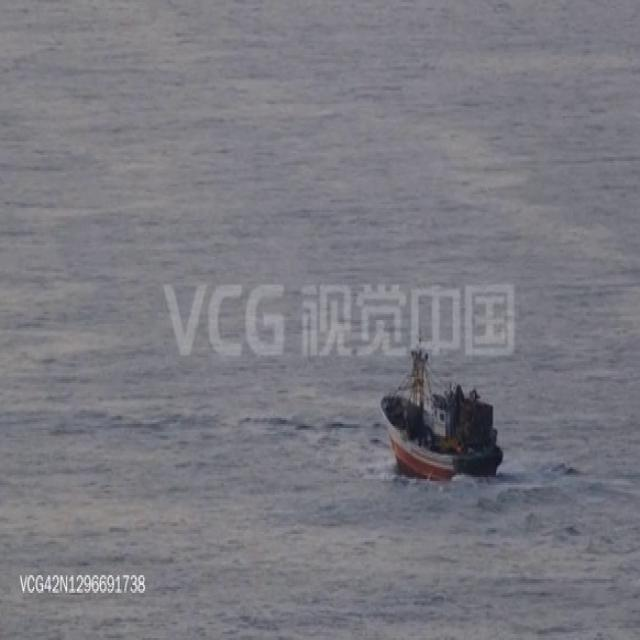houseboat: (382, 345, 500, 491)
